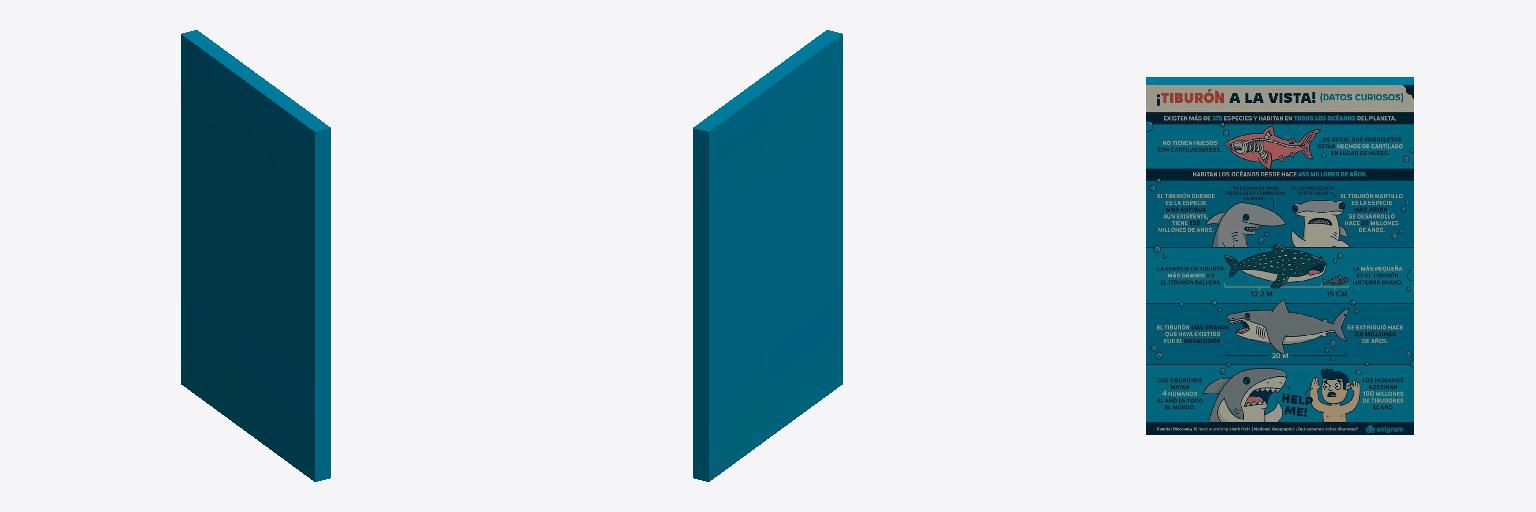
3 views of the same model, side by side, from view 1: azimuth 30°, elevation 25°; view 2: azimuth 150°, elevation 25°; view 3: azimuth 270°, elevation 25° (orthographic).
Parts seen in each view (by area): view 1: Cube; view 2: Cube; view 3: Cube.
Part boxes in pixels (x1,y1,x2,y2): Cube: (181,30,330,481); Cube: (693,30,842,481); Cube: (1146,77,1413,434).
Bounding box in the file's own units: 0.14 × 2.88 × 2.
Materials: 1 (1 with a texture image).